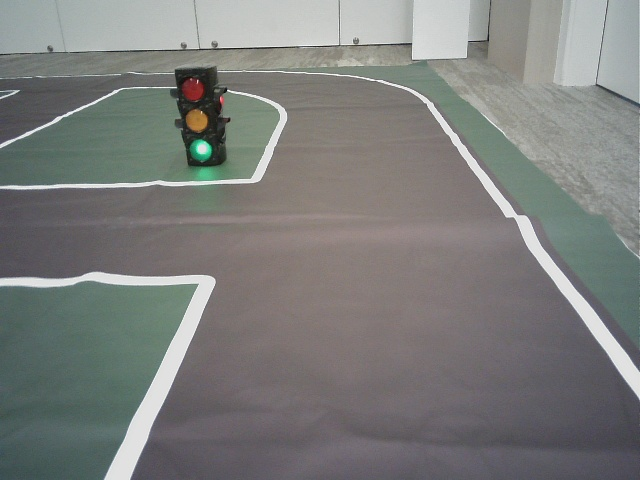green: (177, 75, 216, 160)
